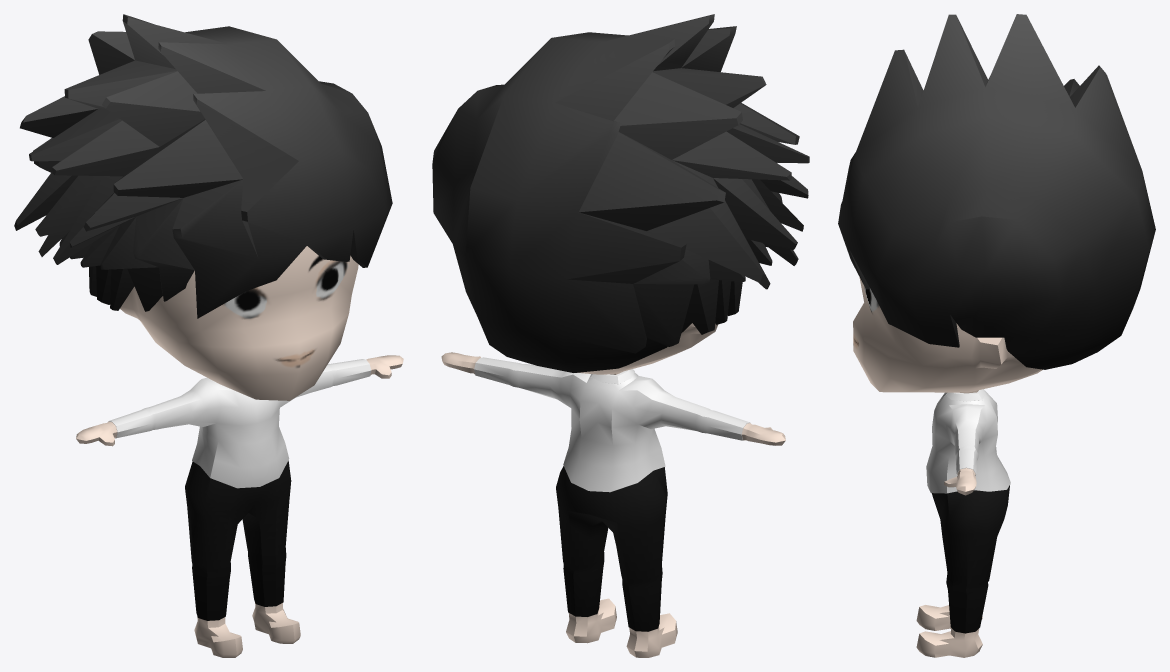
File: Char_COWOK_003.fbx
3 renders of one model, left to right at view 1: azimuth 30°, elevation 25°; view 2: azimuth 150°, elevation 25°; view 3: azimuth 270°, elevation 25°, orthographic. The views are drawn at different scales.
Visible parts, largest first — view 1: Char 1.015, Char 1.014, Char 1.016, Char 1.017; view 2: Char 1.015, Char 1.017, Char 1.016, Char 1.014; view 3: Char 1.015, Char 1.014, Char 1.016, Char 1.017.
Part boxes in pixels (x1,y1,x2,y2): Char 1.015: [14, 14, 392, 318]; Char 1.014: [76, 246, 403, 657]; Char 1.016: [185, 460, 291, 620]; Char 1.017: [108, 359, 371, 488]; Char 1.015: [432, 14, 809, 372]; Char 1.017: [474, 357, 750, 492]; Char 1.016: [556, 466, 667, 631]; Char 1.014: [441, 323, 785, 657]; Char 1.015: [838, 14, 1155, 369]; Char 1.014: [853, 277, 1042, 657]; Char 1.016: [931, 485, 1009, 633]; Char 1.017: [926, 389, 1010, 493].
Size of the model in its own units: 898 by 1499 by 738.
Materials: 2 (2 with a texture image).
